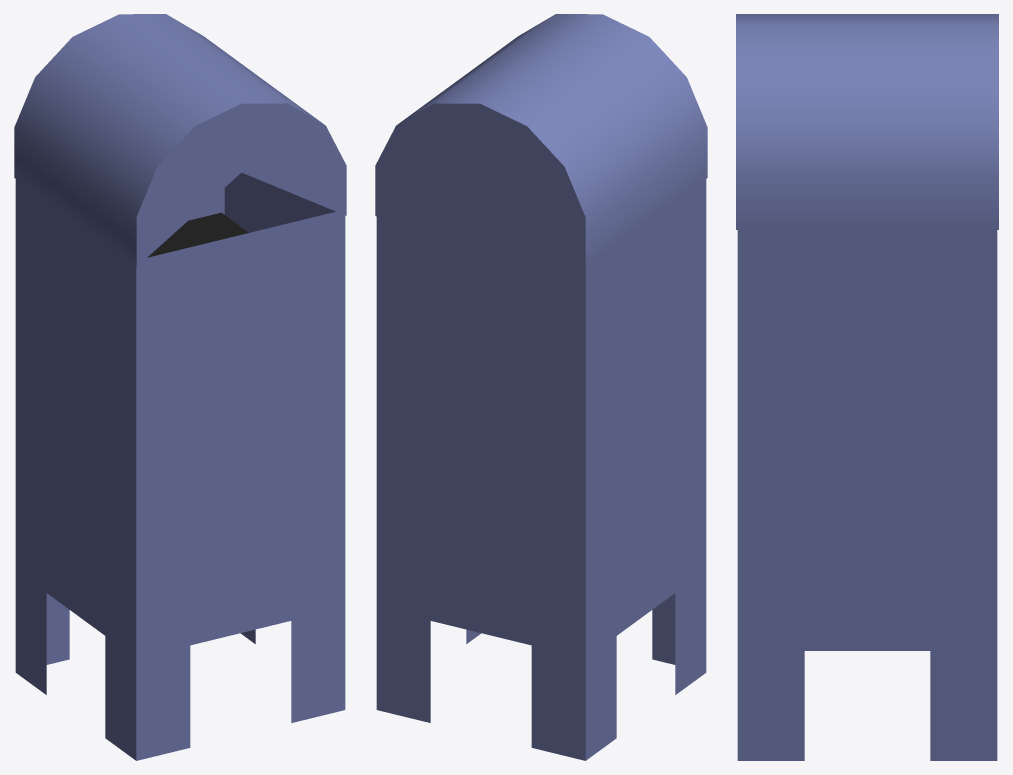
File: BluePostBox.fbx
3 views of the same model, side by side, from view 1: azimuth 30°, elevation 25°; view 2: azimuth 150°, elevation 25°; view 3: azimuth 270°, elevation 25° (orthographic). The views are drawn at different scales.
Visible parts, largest first — view 1: pPlane2; view 2: pPlane2; view 3: pPlane2.
Part boxes in pixels (x1=…): pPlane2: x1=14, y1=14, x2=346, y2=760; pPlane2: x1=375, y1=14, x2=707, y2=760; pPlane2: x1=736, y1=14, x2=998, y2=760.
Bounding box in the file's own units: 3.9 × 11.21 × 3.93.
